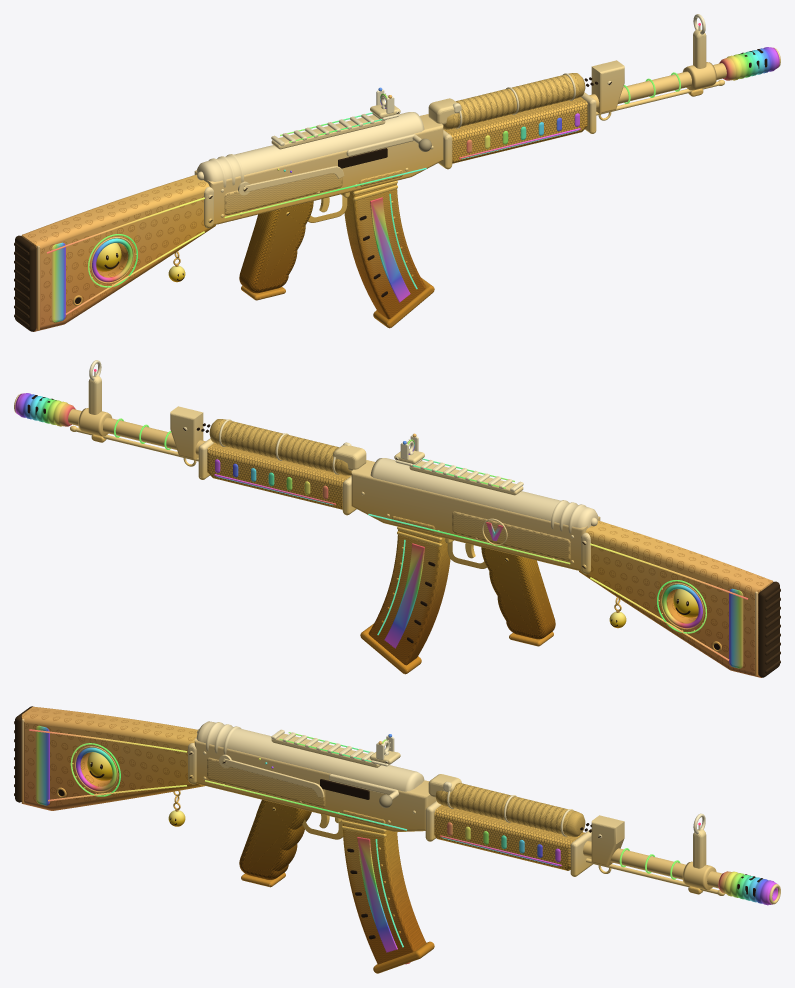
Rendered from verity-a.glb.
3 views of the same model, one above another, from view 1: azimuth 30°, elevation 25°; view 2: azimuth 150°, elevation 25°; view 3: azimuth 330°, elevation 25° (orthographic).
Parts seen in each view (by area): view 1: stock, receiver, receiver_engraved_panel, dust_cover, rail_tooth_1, pistol_grip, lower_handguard, upper_handguard, selector_mark_2, verity_emblem, glow_receiver_R, butt_pad (+2 smaller); view 2: stock, receiver, receiver_engraved_panel, dust_cover, pistol_grip, rail_tooth_1, lower_handguard, upper_handguard, selector_mark_2, verity_emblem, glow_receiver_R, butt_pad (+2 smaller); view 3: stock, receiver, receiver_engraved_panel, dust_cover, rail_tooth_1, lower_handguard, pistol_grip, upper_handguard, selector_mark_2, verity_emblem, glow_receiver_R, barrel (+3 smaller).
Part boxes in pixels (box(x1,y1,x2,y2)): stock: box(21, 174, 215, 331); receiver: box(194, 29, 706, 225); receiver_engraved_panel: box(224, 166, 426, 319); dust_cover: box(73, 14, 780, 305); rail_tooth_1: box(22, 89, 596, 330); pistol_grip: box(239, 201, 313, 293); lower_handguard: box(444, 97, 587, 163); upper_handguard: box(443, 73, 585, 129); selector_mark_2: box(92, 47, 779, 282); verity_emblem: box(51, 197, 410, 322); glow_receiver_R: box(47, 72, 680, 314); butt_pad: box(14, 235, 36, 331); stock: box(579, 520, 773, 677); receiver: box(88, 375, 600, 571); receiver_engraved_panel: box(368, 511, 570, 665); dust_cover: box(14, 360, 721, 651); pistol_grip: box(481, 547, 555, 639); rail_tooth_1: box(198, 435, 772, 676); lower_handguard: box(207, 443, 350, 509); upper_handguard: box(209, 419, 351, 475); selector_mark_2: box(15, 393, 702, 628); verity_emblem: box(384, 522, 743, 668); glow_receiver_R: box(114, 418, 747, 660); butt_pad: box(758, 581, 780, 677); stock: box(21, 706, 204, 810); receiver: box(194, 733, 706, 894); receiver_engraved_panel: box(207, 757, 426, 964); dust_cover: box(56, 721, 780, 933); rail_tooth_1: box(21, 718, 592, 973); lower_handguard: box(434, 805, 585, 870); pistol_grip: box(239, 799, 311, 879); upper_handguard: box(435, 783, 585, 836); selector_mark_2: box(76, 734, 777, 964); verity_emblem: box(35, 725, 397, 952); glow_receiver_R: box(29, 729, 680, 947); barrel: box(583, 841, 722, 889).
Size of the model in its own units: 1.2 by 0.3506 by 0.0922.
15 materials, 6 textured.
